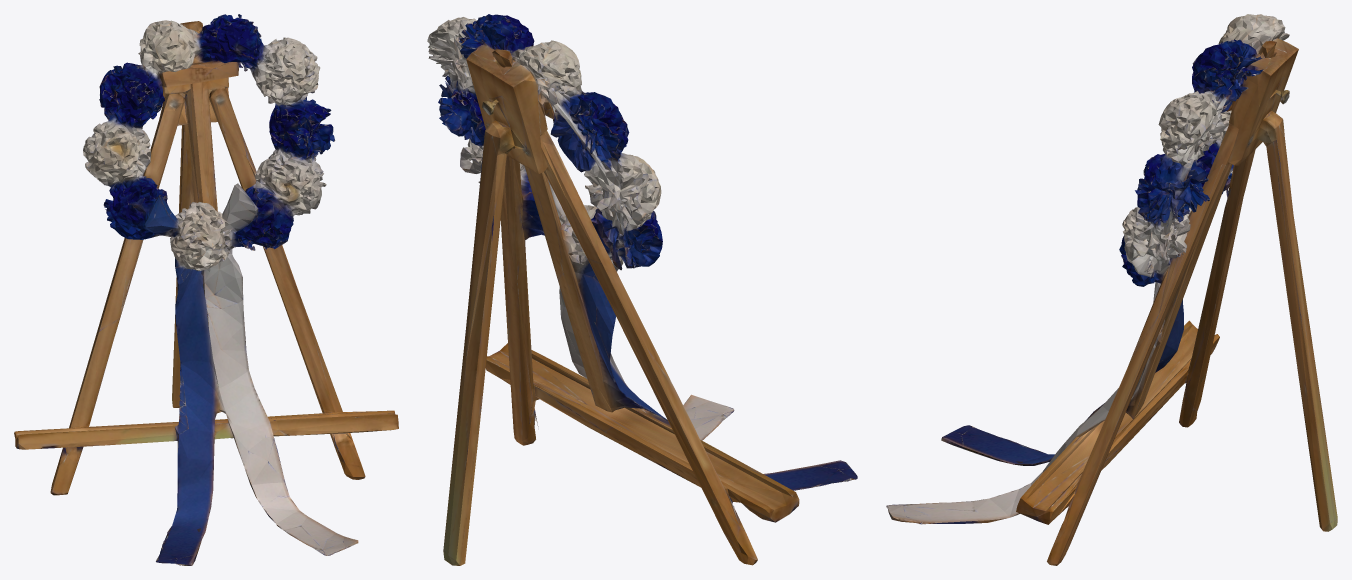
The model's file is 39FFDC96-F359-C84F-99EF-25F92318AF93_512.glb.
3 renders of one model, left to right at view 1: azimuth 30°, elevation 25°; view 2: azimuth 150°, elevation 25°; view 3: azimuth 270°, elevation 25°, orthographic. The views are drawn at different scales.
Parts seen in each view (by area): view 1: Pfingstrosenkranz_23k_0.5k; view 2: Pfingstrosenkranz_23k_0.5k; view 3: Pfingstrosenkranz_23k_0.5k.
Boxes of the visible parts, <box> form: Pfingstrosenkranz_23k_0.5k: <box>14,14,398,565</box>; Pfingstrosenkranz_23k_0.5k: <box>427,14,857,565</box>; Pfingstrosenkranz_23k_0.5k: <box>886,14,1337,565</box>.
Bounding box in the file's own units: 0.3827 × 0.4847 × 0.4027.
1 material, 1 textured.
